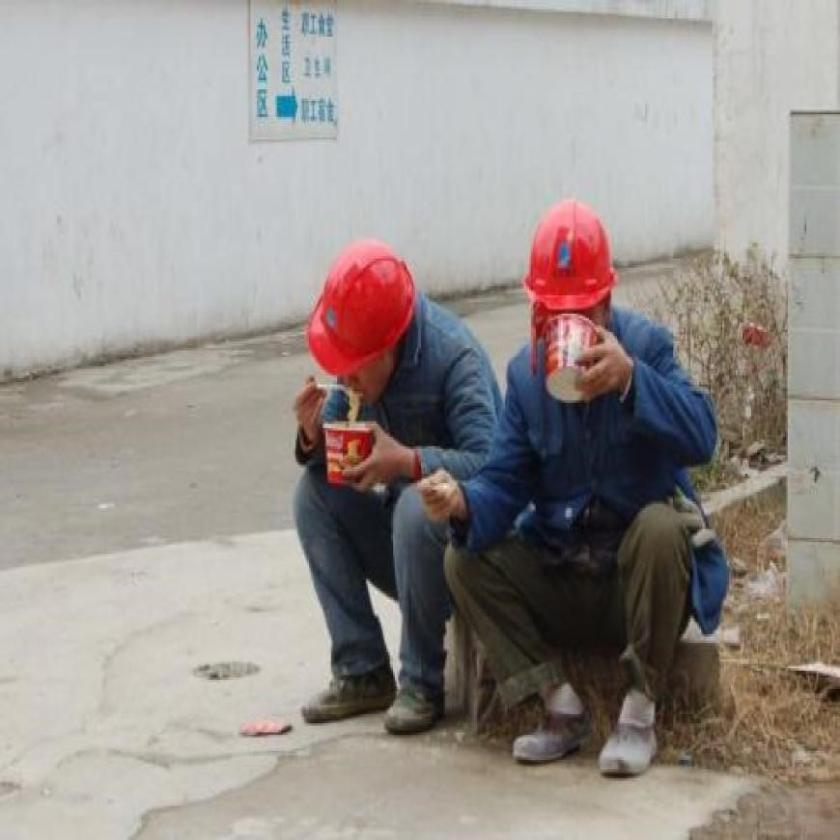Con_casco: (305, 232, 427, 410)
